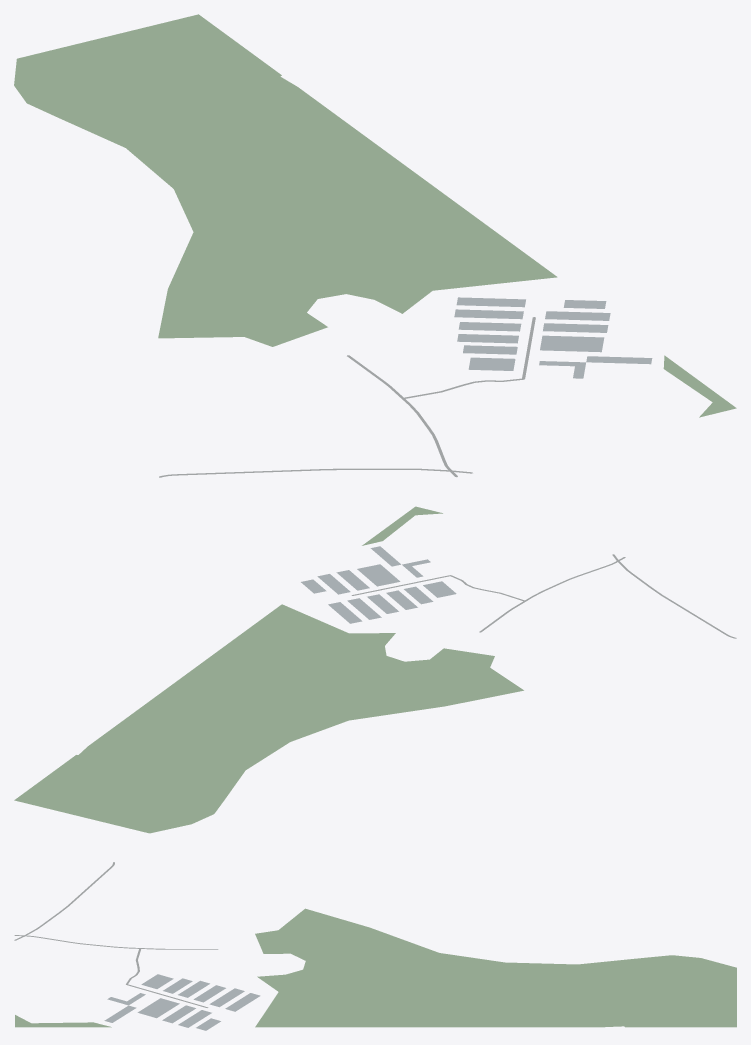
File: -11_9-known-coarse.glb
3 views of the same model, one above another, from view 1: azimuth 30°, elevation 25°; view 2: azimuth 150°, elevation 25°; view 3: azimuth 270°, elevation 25° (orthographic). The views are drawn at different scales.
Bounding box in the file's own units: 551 × 0.15 × 996.
